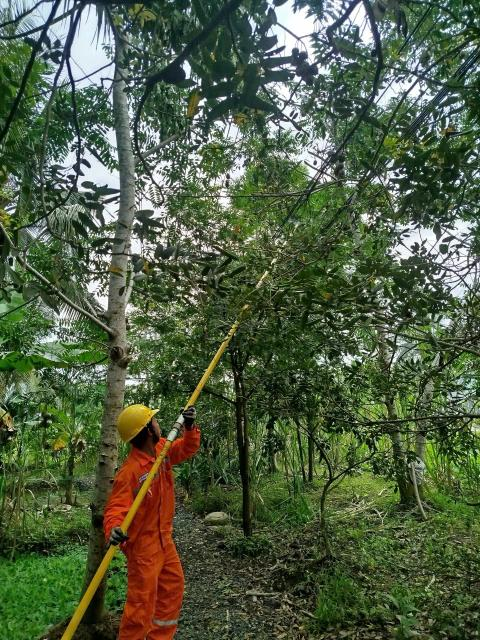gloves: (174, 401, 206, 442), (102, 518, 133, 557)
helmet: (107, 395, 166, 448)
